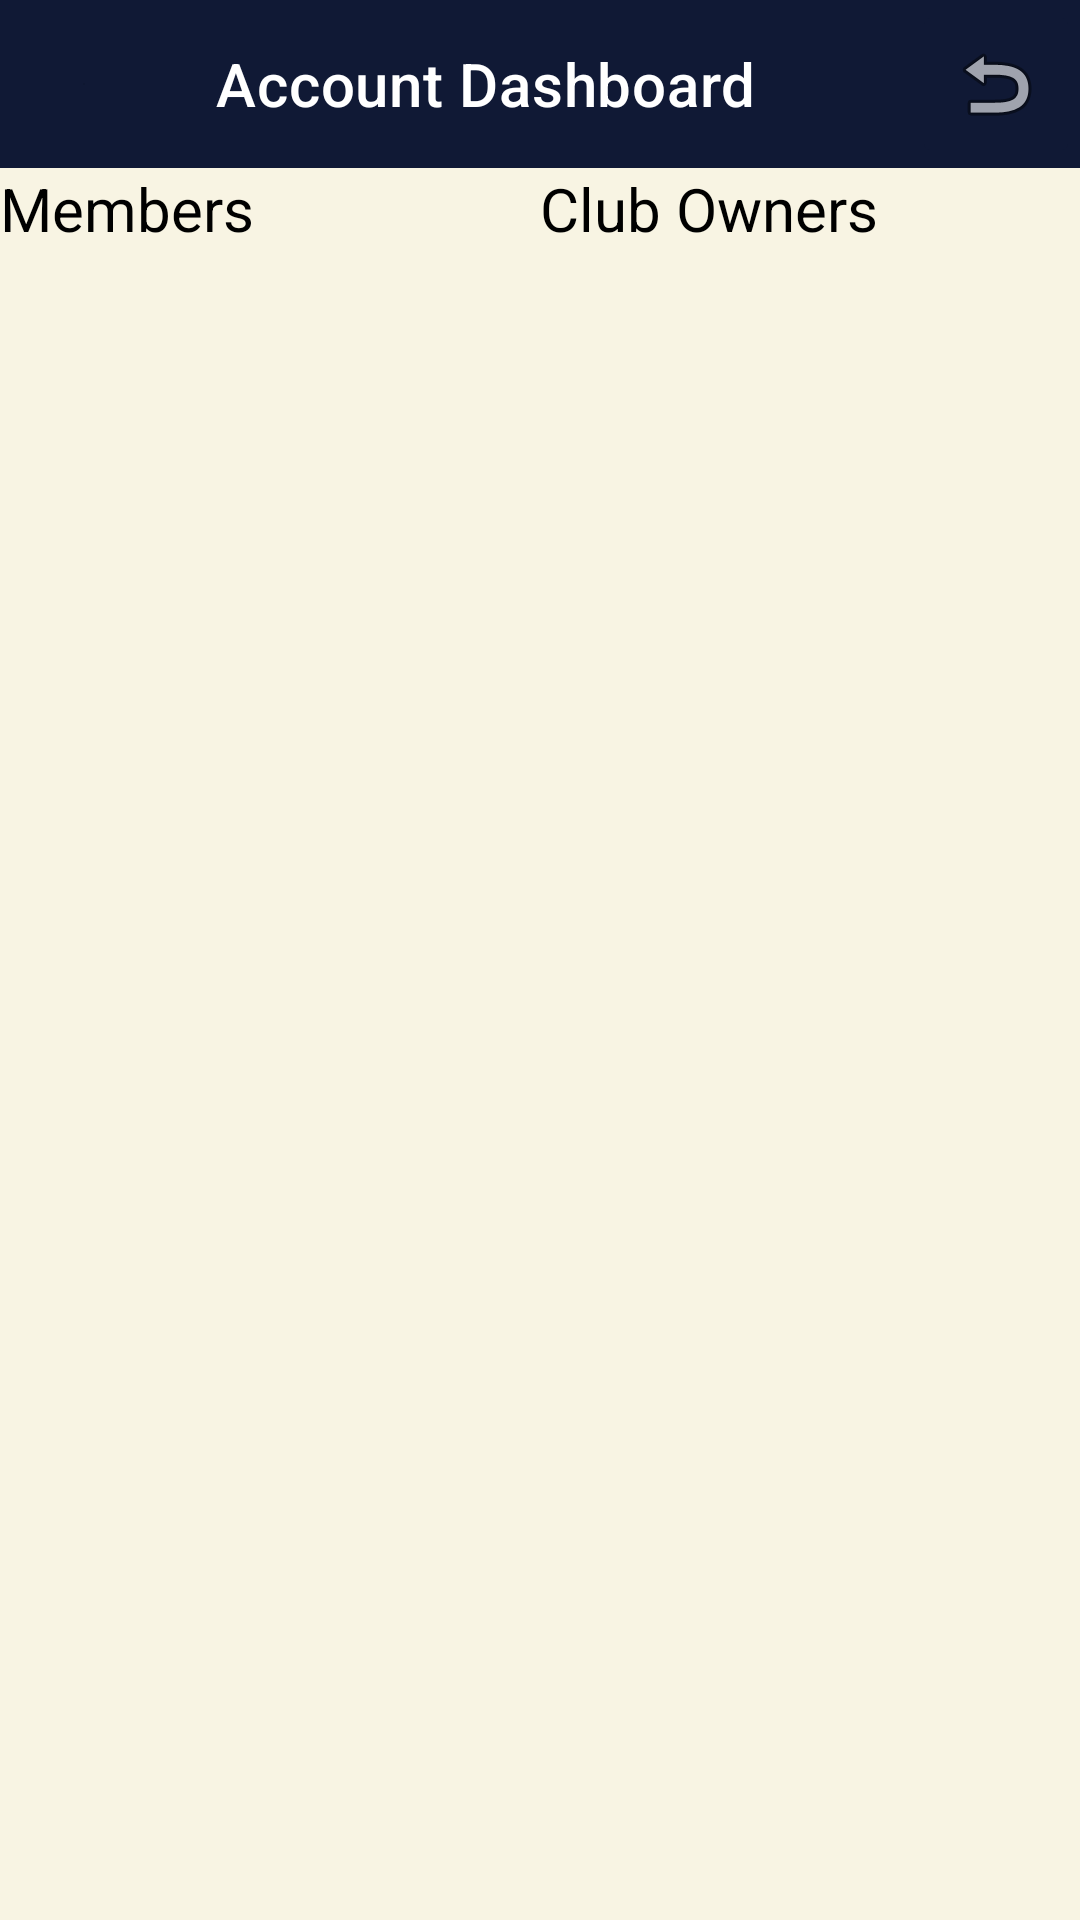

Screen size 1080w x 1920h. Icon name, then its box in pixels as [left=x1, top=y1, right=x2, bottom=y2]:
revert: [left=965, top=55, right=1030, bottom=114]
